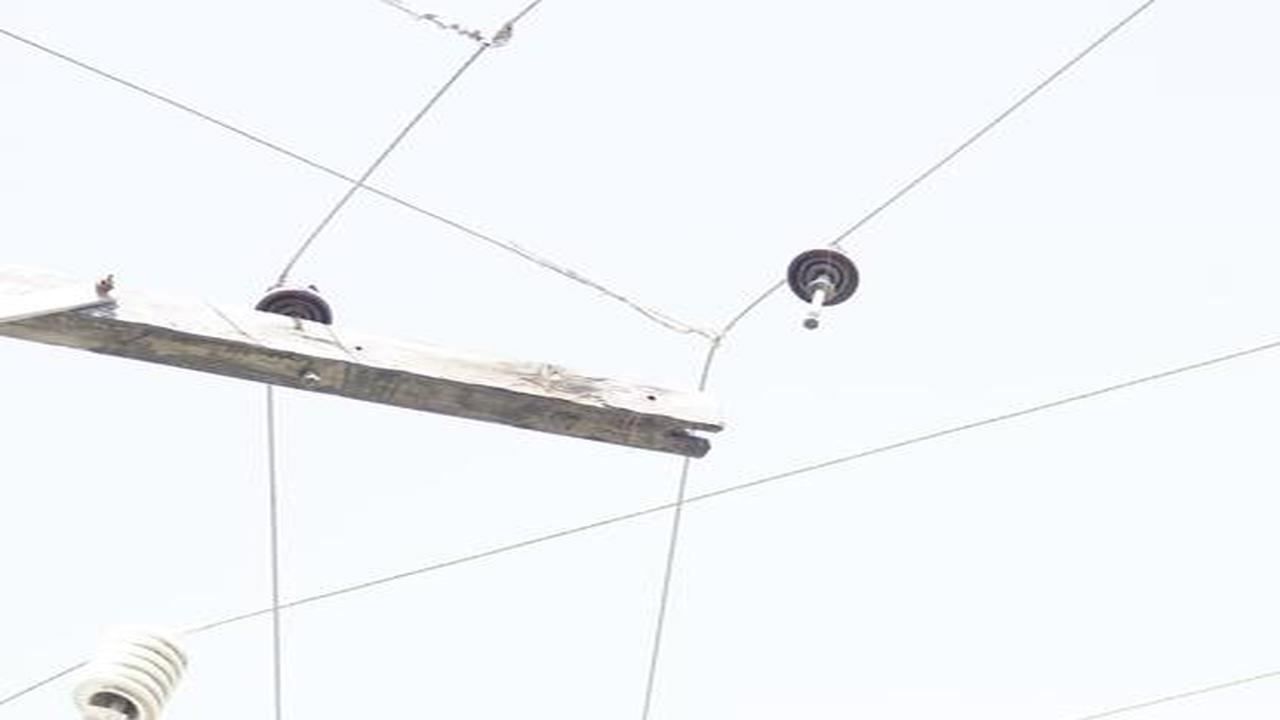insulator_pin: (784, 245, 862, 302), (256, 283, 333, 324)
